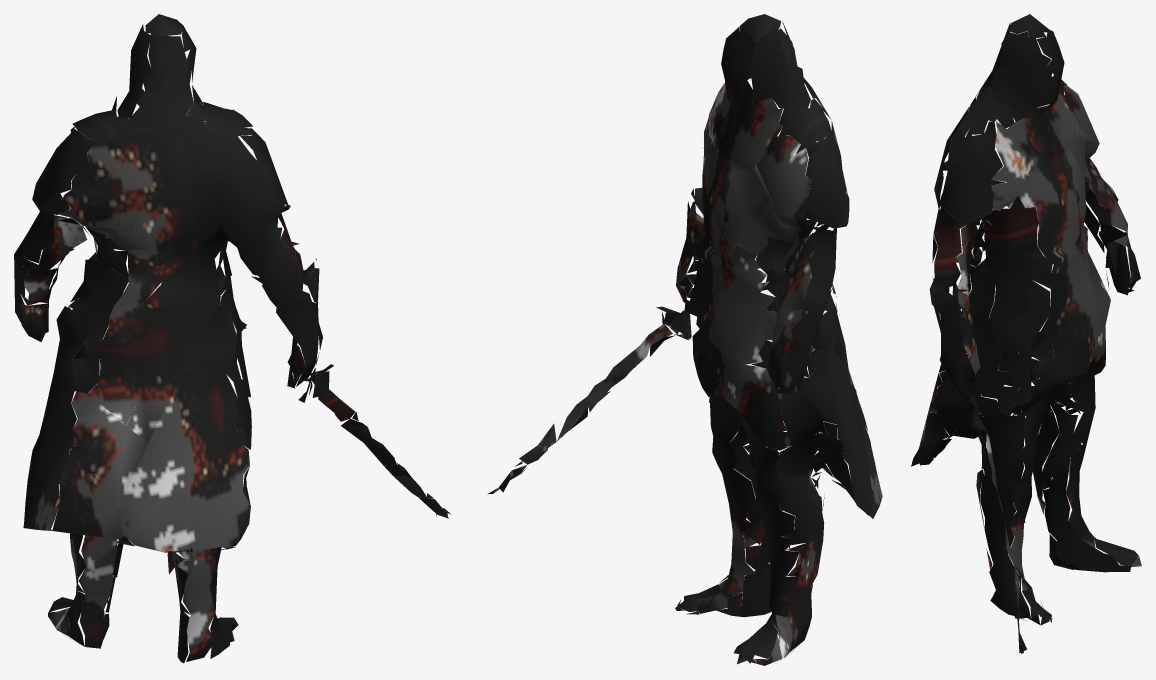
The picture shows the model from 3 angles, left to right: view 1: azimuth 30°, elevation 25°; view 2: azimuth 150°, elevation 25°; view 3: azimuth 270°, elevation 25°; orthographic projection. The views are drawn at different scales.
Parts seen in each view (by area): view 1: body.002; view 2: body.002; view 3: body.002.
Part boxes in pixels (x1=…): body.002: x1=14, y1=14, x2=450, y2=663; body.002: x1=487, y1=14, x2=882, y2=665; body.002: x1=911, y1=14, x2=1141, y2=653.
Bounding box in the file's own units: 1.38 × 2.01 × 0.7269.
Materials: 1 (1 with a texture image).
